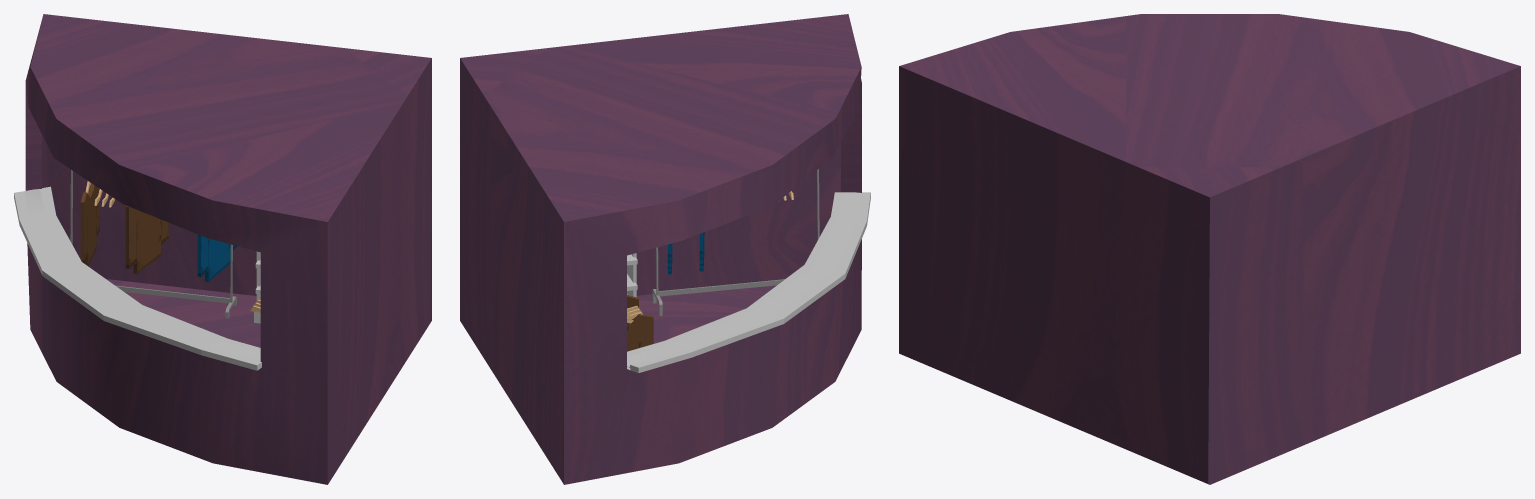
The model's file is chapelariatexturizada.fbx.
The picture shows the model from 3 angles, left to right: view 1: azimuth 30°, elevation 25°; view 2: azimuth 150°, elevation 25°; view 3: azimuth 270°, elevation 25°; orthographic projection. The views are drawn at different scales.
Visible parts, largest first — view 1: polySurface162, polySurface163, polySurface160, polySurface159, polySurface136, polySurface151; view 2: polySurface162, polySurface163, polySurface132, polySurface159; view 3: polySurface162.
Boxes of the visible parts, <box> form: polySurface162: <box>25,14,431,484</box>; polySurface163: <box>14,186,261,370</box>; polySurface160: <box>125,205,168,273</box>; polySurface159: <box>80,181,99,266</box>; polySurface136: <box>197,234,237,281</box>; polySurface151: <box>116,285,230,303</box>; polySurface162: <box>460,14,861,484</box>; polySurface163: <box>627,192,870,372</box>; polySurface132: <box>652,169,819,315</box>; polySurface159: <box>627,314,653,351</box>; polySurface162: <box>899,14,1520,484</box>.
Bounding box in the file's own units: 470 × 331 × 649.
